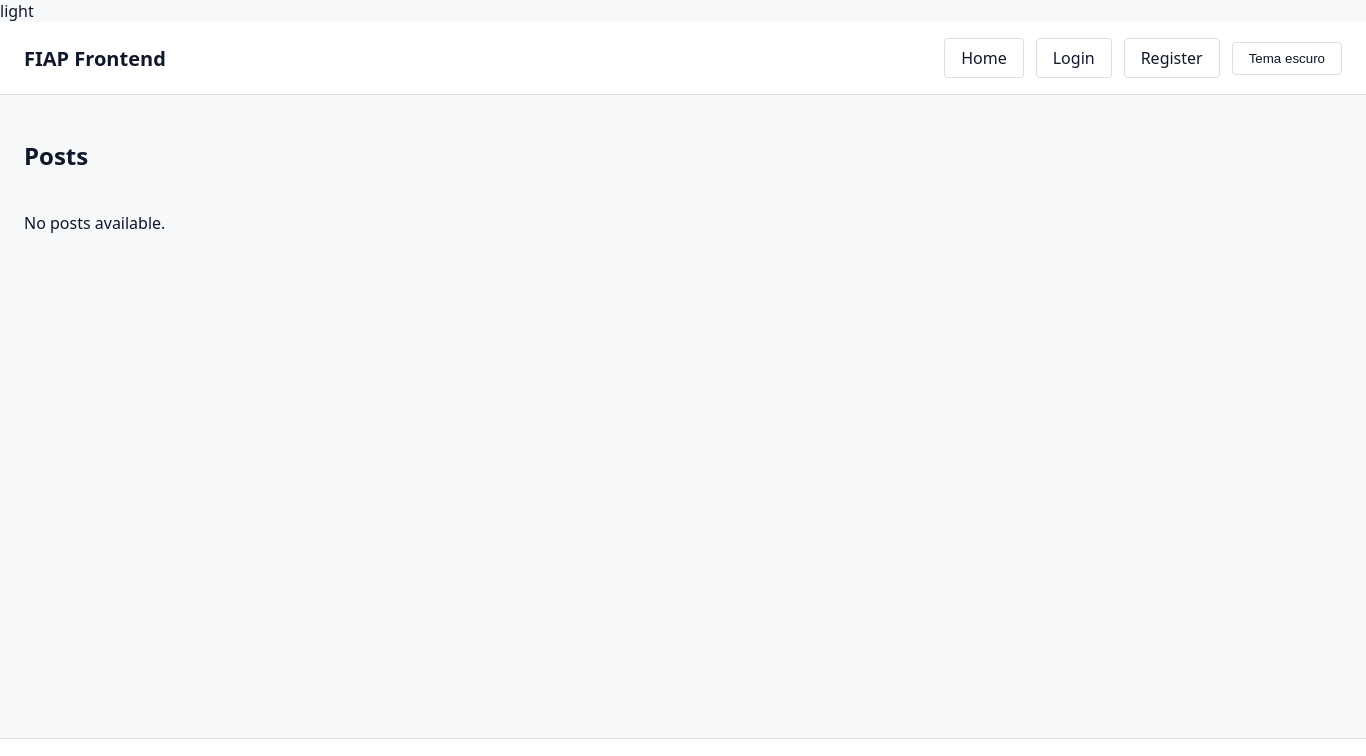
Test: App integration › toggles theme colours when requested
The width and height of the screenshot is (1366, 756).
Expected: the text with test id "theme-name" reads "light", [0,0,34,22]
Click the button with aria-label "alternar para tema" at {"x": 1287, "y": 58}, box [1232,42,1342,74]
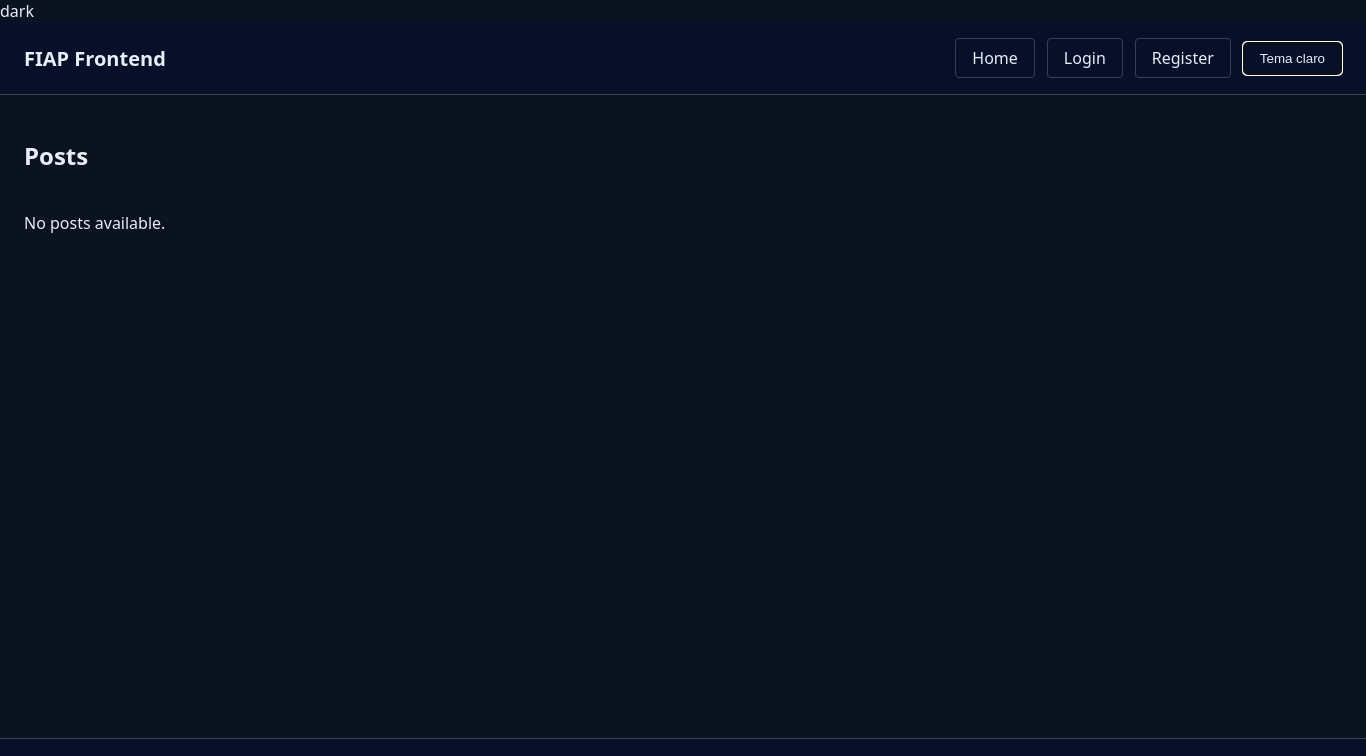
Expected: the text with test id "theme-name" reads "dark", [0,0,34,22]
